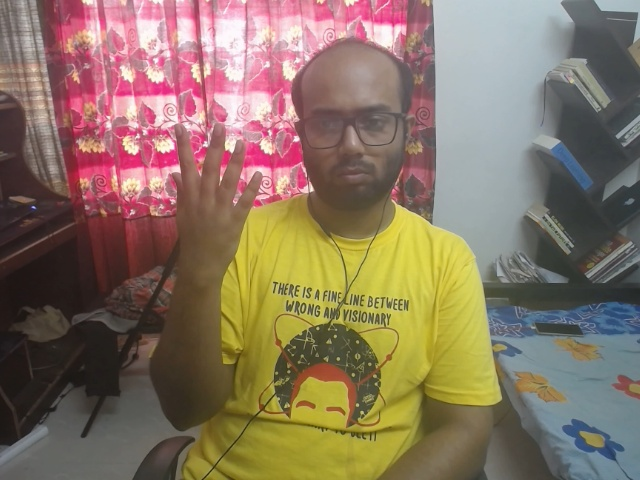five: (133, 100, 294, 288)
